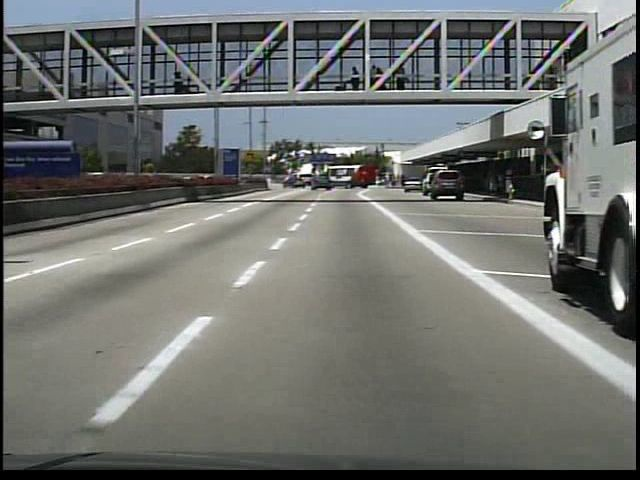person: (348, 63, 365, 94), (172, 69, 190, 97), (486, 170, 501, 200)
